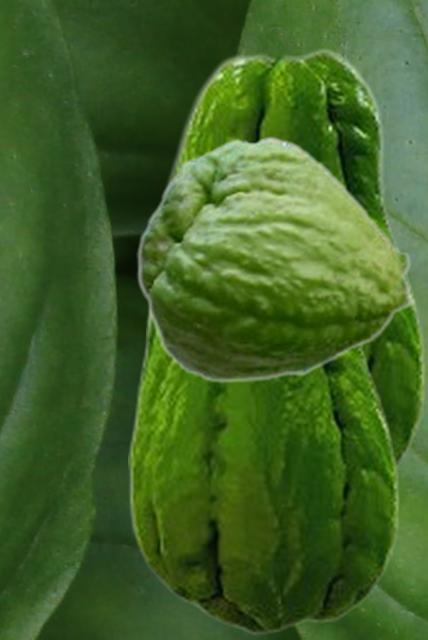sayote: (146, 47, 425, 471), (128, 312, 399, 635), (136, 135, 416, 383)
